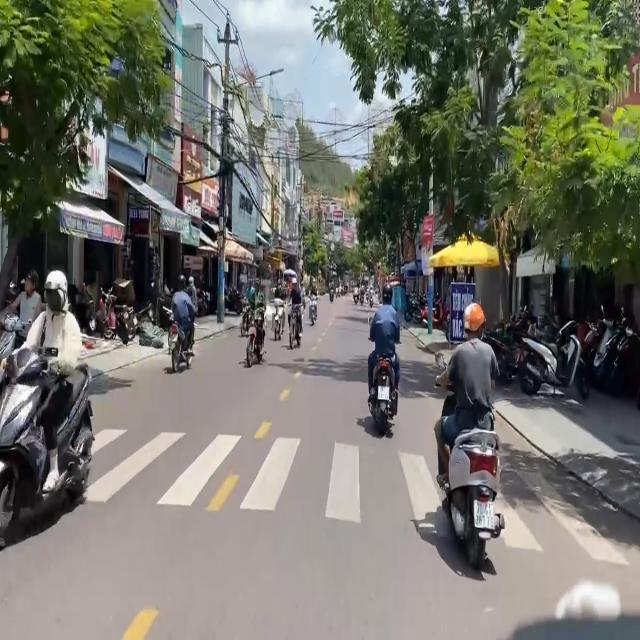walk-crossing: (83, 414, 632, 564)
